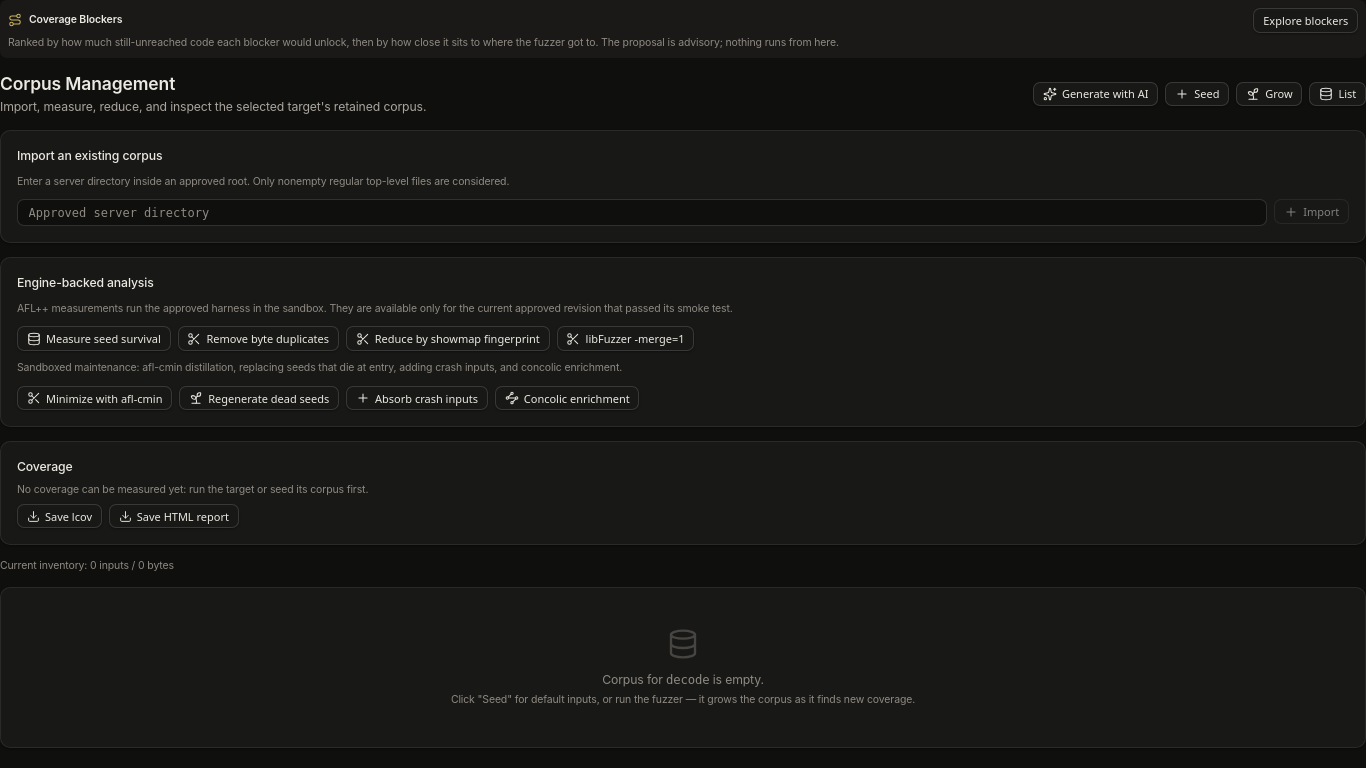
runs afl-cmin, dead-seed regeneration, crash absorption and concolic enrichment from the corpus view
Click the button "Minimize with afl-cmin": (95, 398) [17,386,172,410]
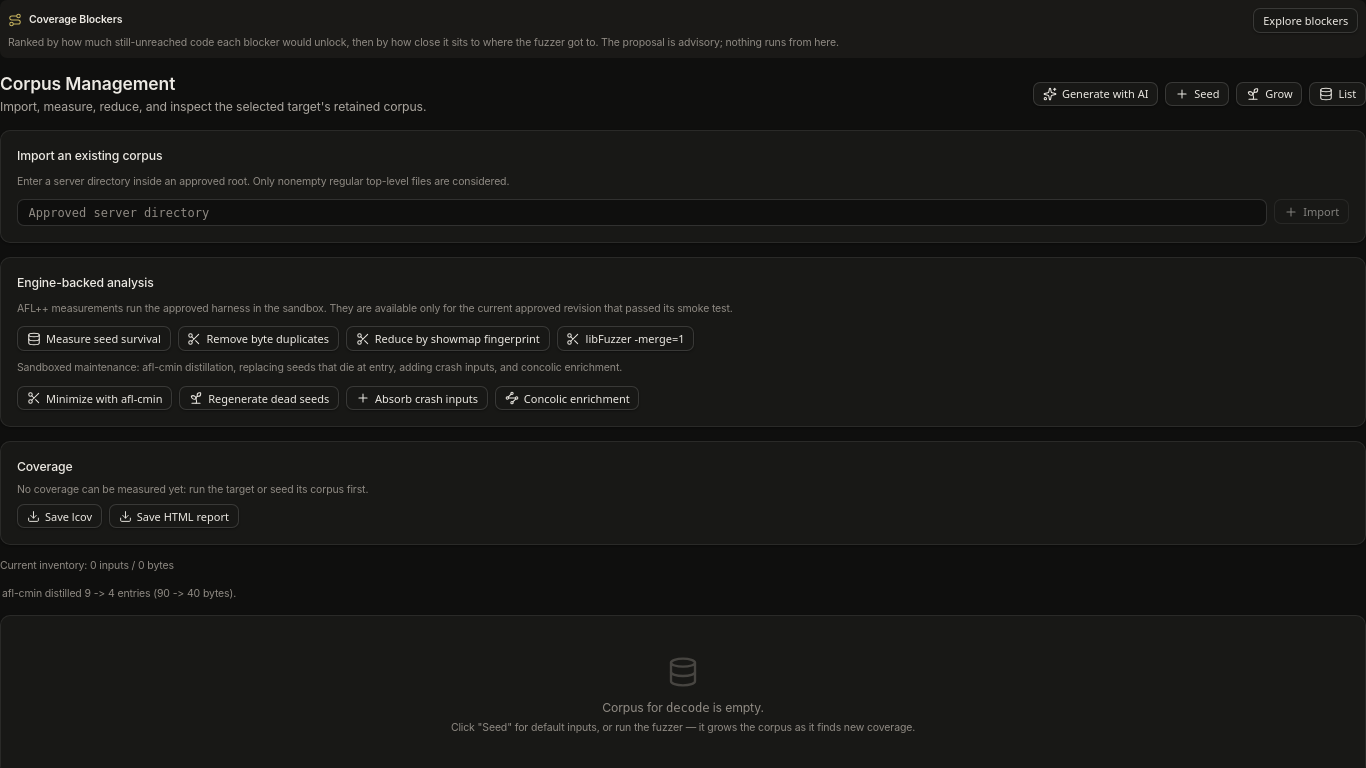
Expected: the text "afl-cmin distilled 9 -> 4 entries (90 -> 40 bytes)." is shown, [2,587,236,600]
Click the button "Regenerate dead seeds": (259, 398) [179,386,339,410]
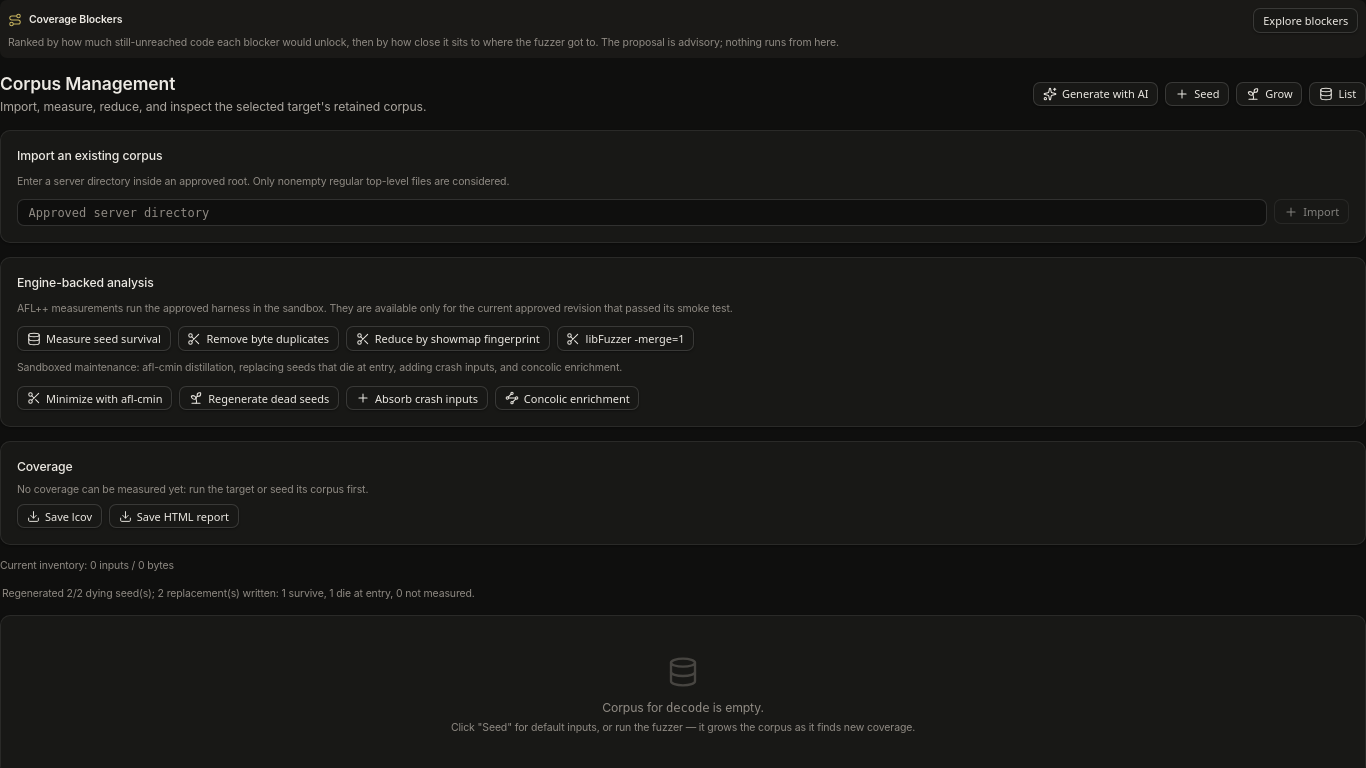
Expected: the text "Regenerated 2/2 dying seed(s); 2 replacement(s) written: 1 survive, 1 die at entry, 0 not measured." is shown, [2,587,475,600]
Click the button "Absorb crash inputs": (417, 398) [346,386,488,410]
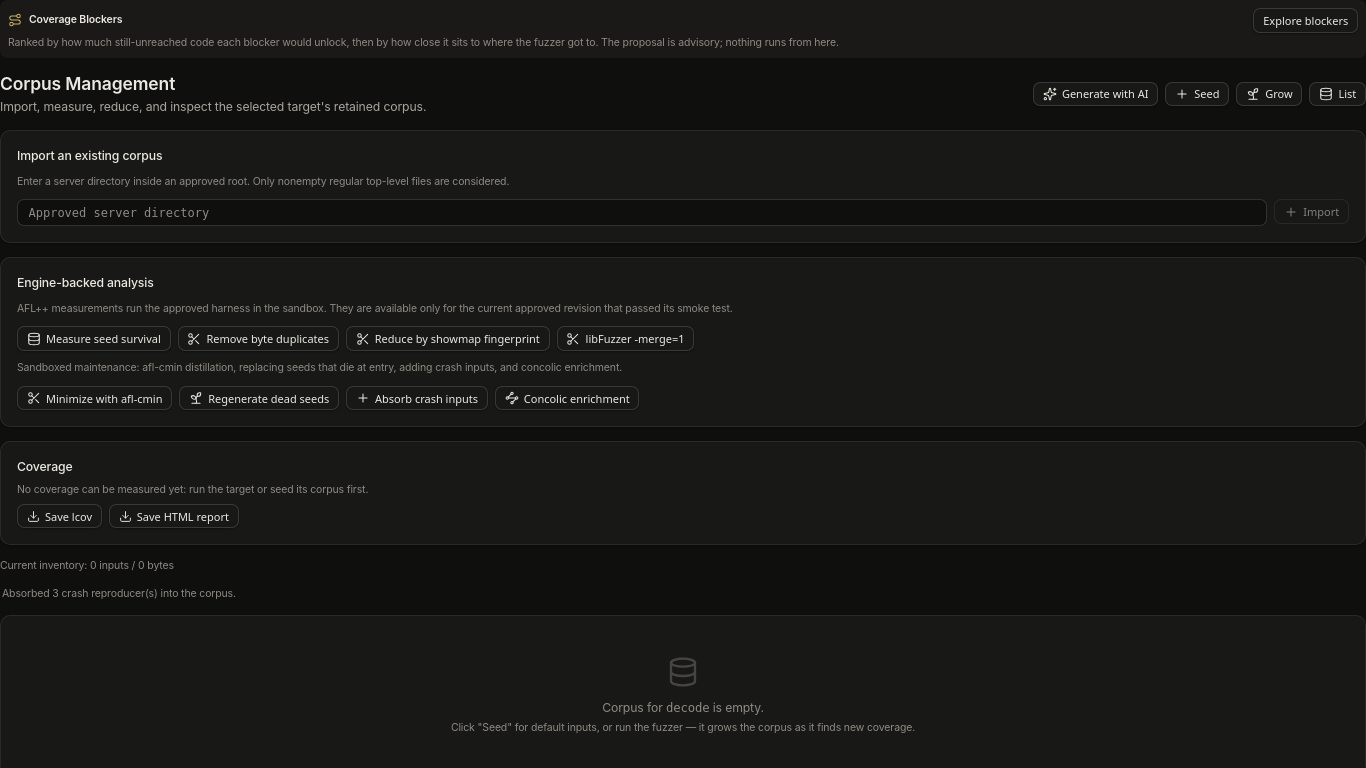
Expected: the text "Absorbed 3 crash reproducer(s) into the corpus." is shown, [2,587,236,600]
Click the button "Concolic enrichment": (567, 398) [495,386,639,410]
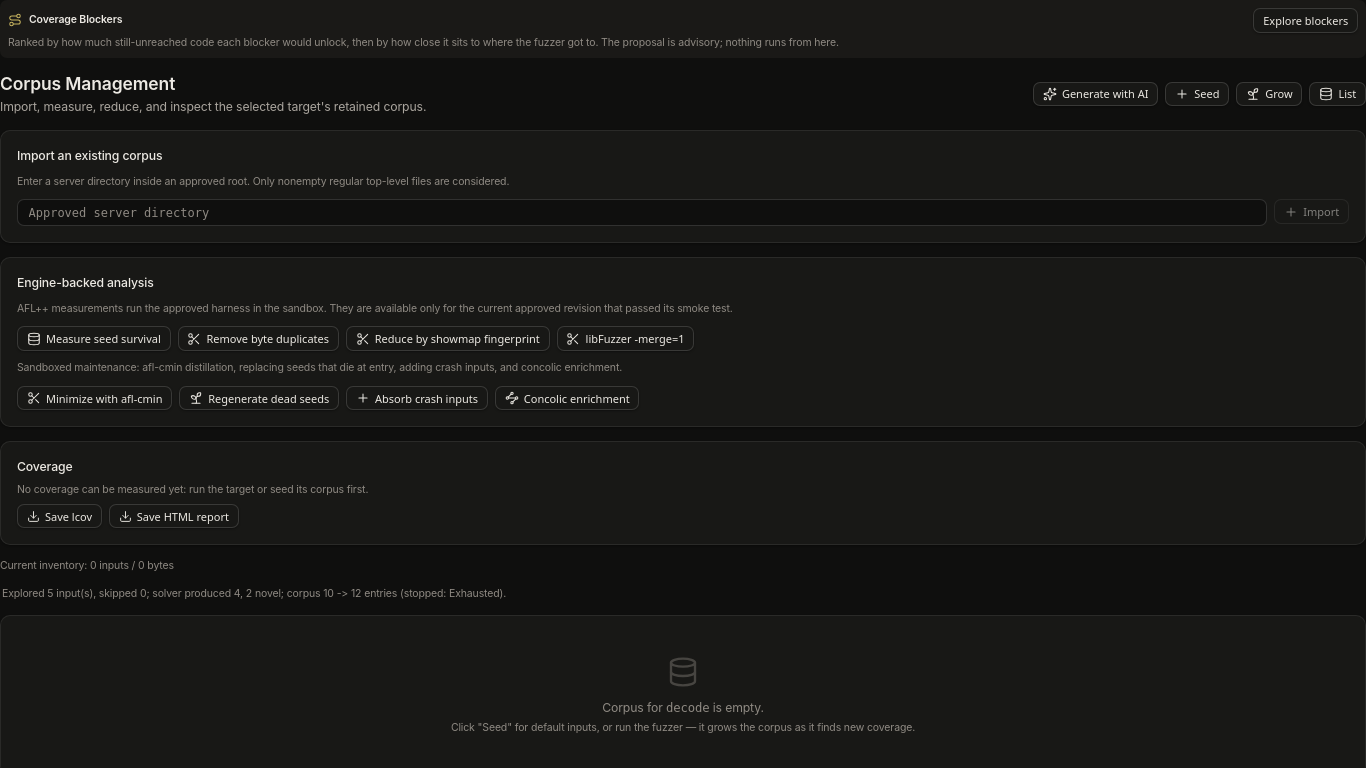
Expected: the text "solver produced 4, 2 novel; corpus 10 -> 12 entries" is shown, [2,587,506,600]
